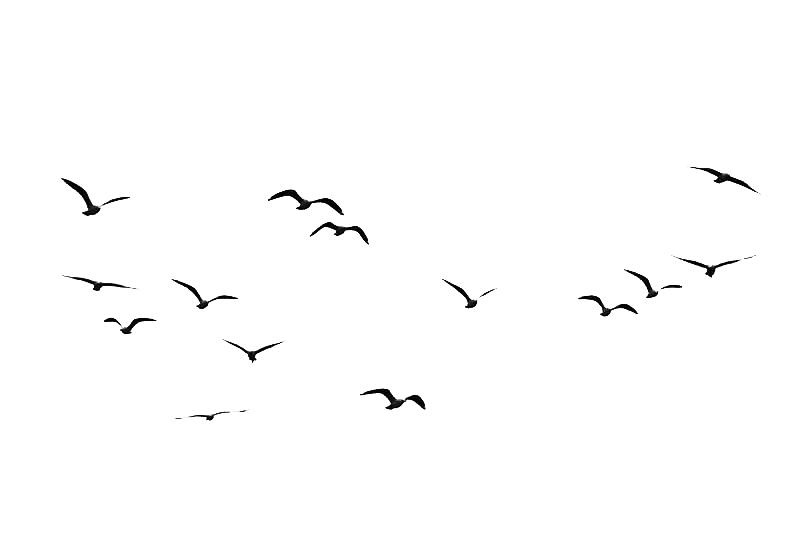bird: (61, 176, 130, 221), (672, 249, 760, 281), (689, 159, 757, 197), (442, 276, 507, 312), (172, 276, 238, 311), (358, 384, 427, 413), (268, 187, 346, 212), (623, 266, 683, 298), (575, 294, 644, 321), (222, 335, 285, 364), (64, 274, 137, 296), (173, 405, 247, 426), (306, 221, 369, 245), (100, 317, 155, 339)
